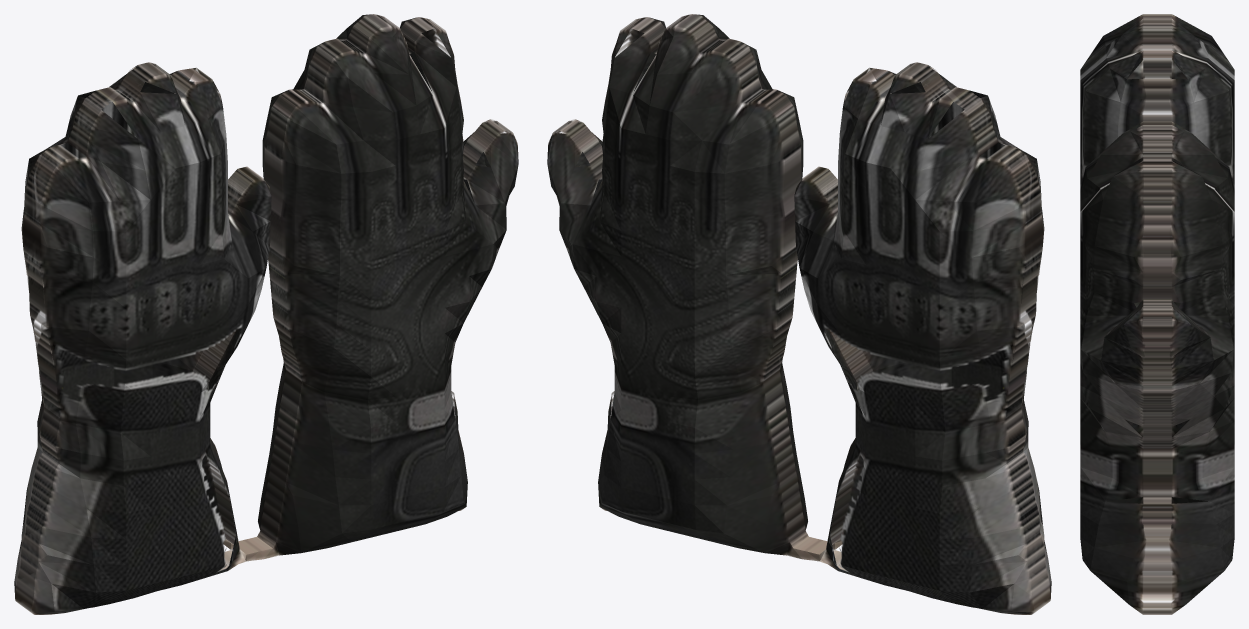
Rendered from hjc-circuit-adventure-glove-107.glb.
3 views of the same model, side by side, from view 1: azimuth 30°, elevation 25°; view 2: azimuth 150°, elevation 25°; view 3: azimuth 270°, elevation 25° (orthographic). The views are drawn at different scales.
Visible parts, largest first — view 1: world; view 2: world; view 3: world.
Part boxes in pixels (box(x1,y1,x2,y2)): world: box(14, 14, 518, 614); world: box(547, 14, 1051, 614); world: box(1080, 14, 1234, 614).
Size of the model in its own units: 0.9868 by 1 by 0.3.
1 material, 1 textured.
